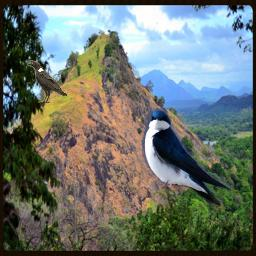Crow: (27, 60, 68, 103)
Swallow: (142, 108, 231, 206)
